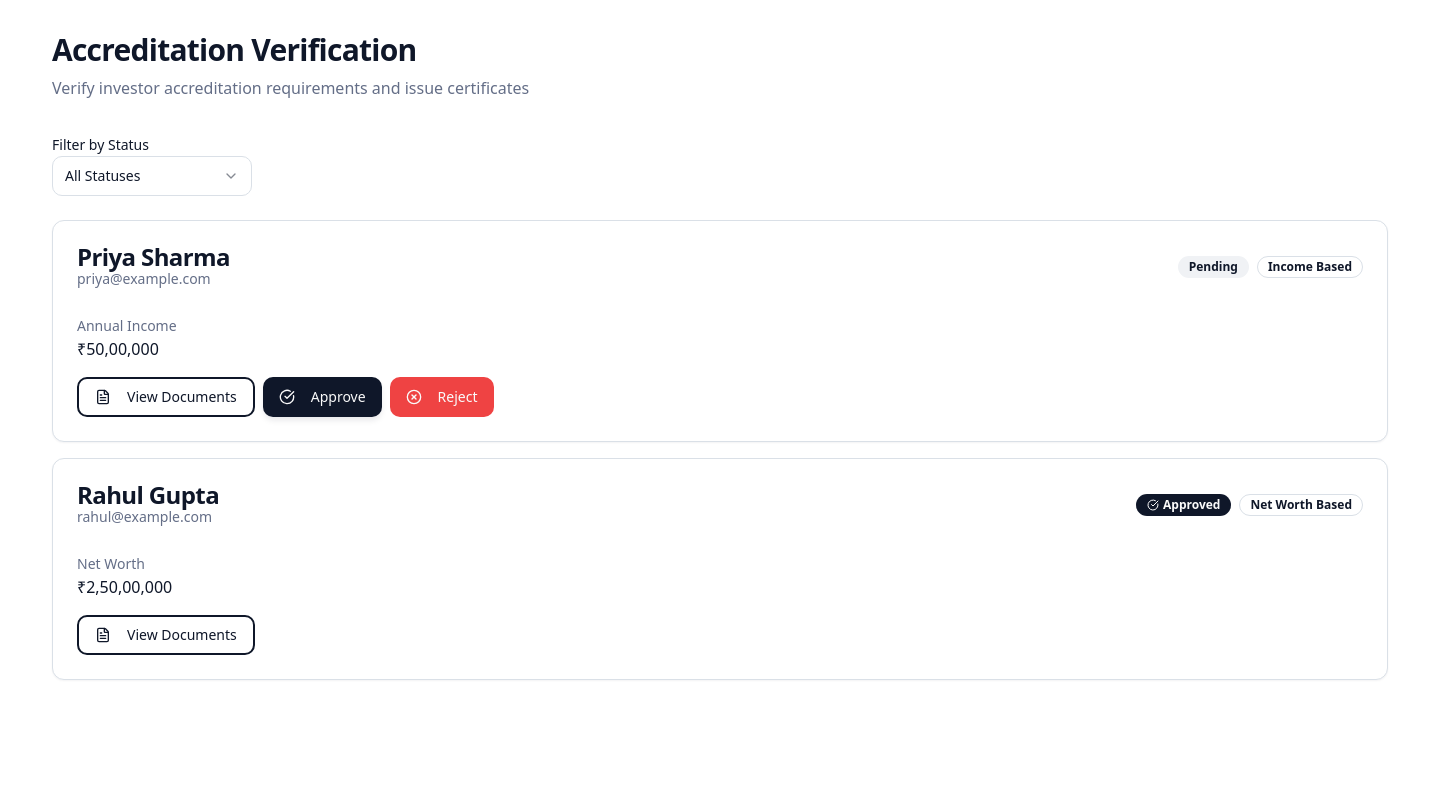
US-COMPLIANCE-003: Verify Accredited Investor Status › Filter & Search › should filter by verification status
Expected: the text "Priya Sharma" is shown, [77,245,230,269]
Expected: the text "Rahul Gupta" is shown, [77,483,219,507]
// Click the status filter dropdown
Click the dropdown at (152,176), box [52,156,252,196]
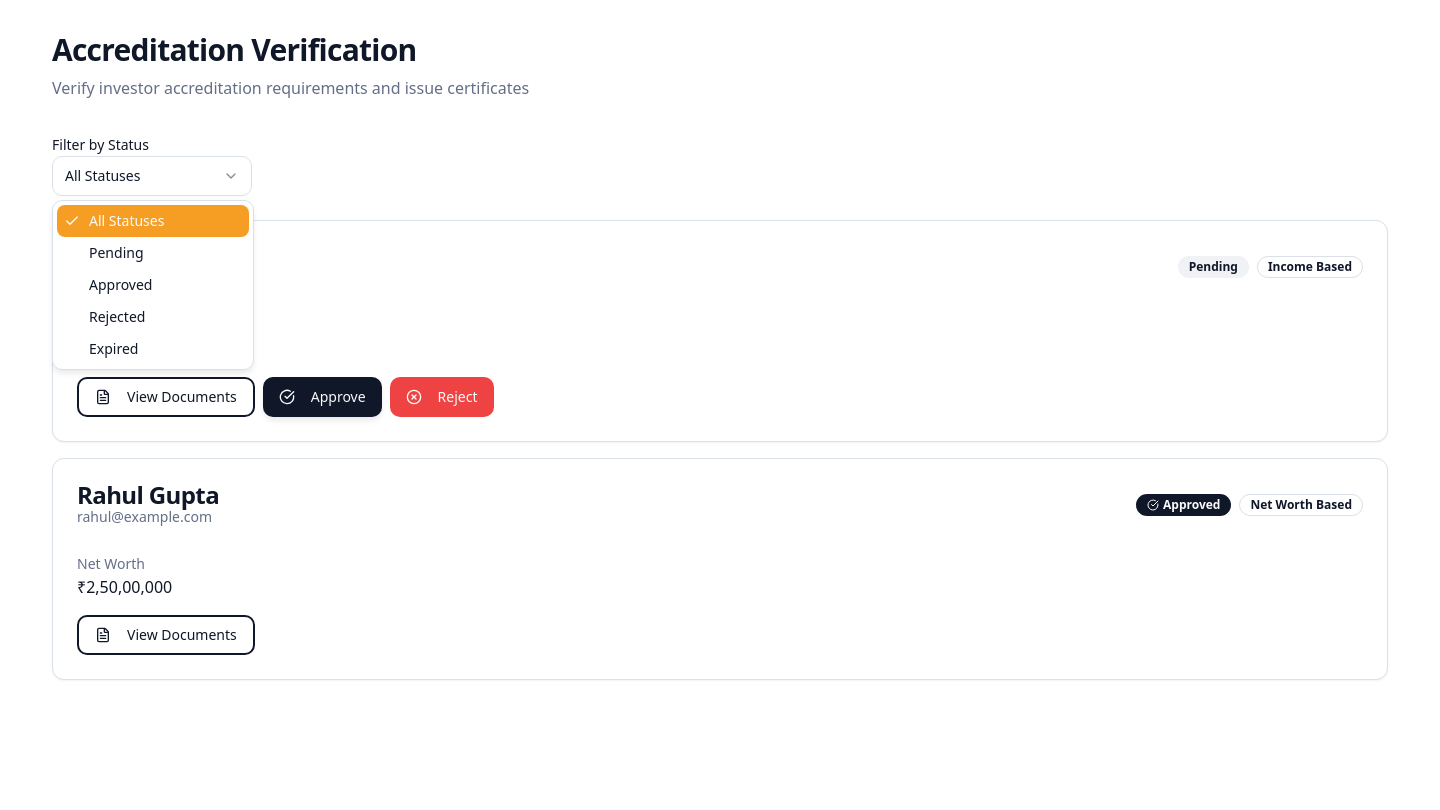
// Select pending option
Click the option "Pending" at (116,252), box [89,243,144,262]
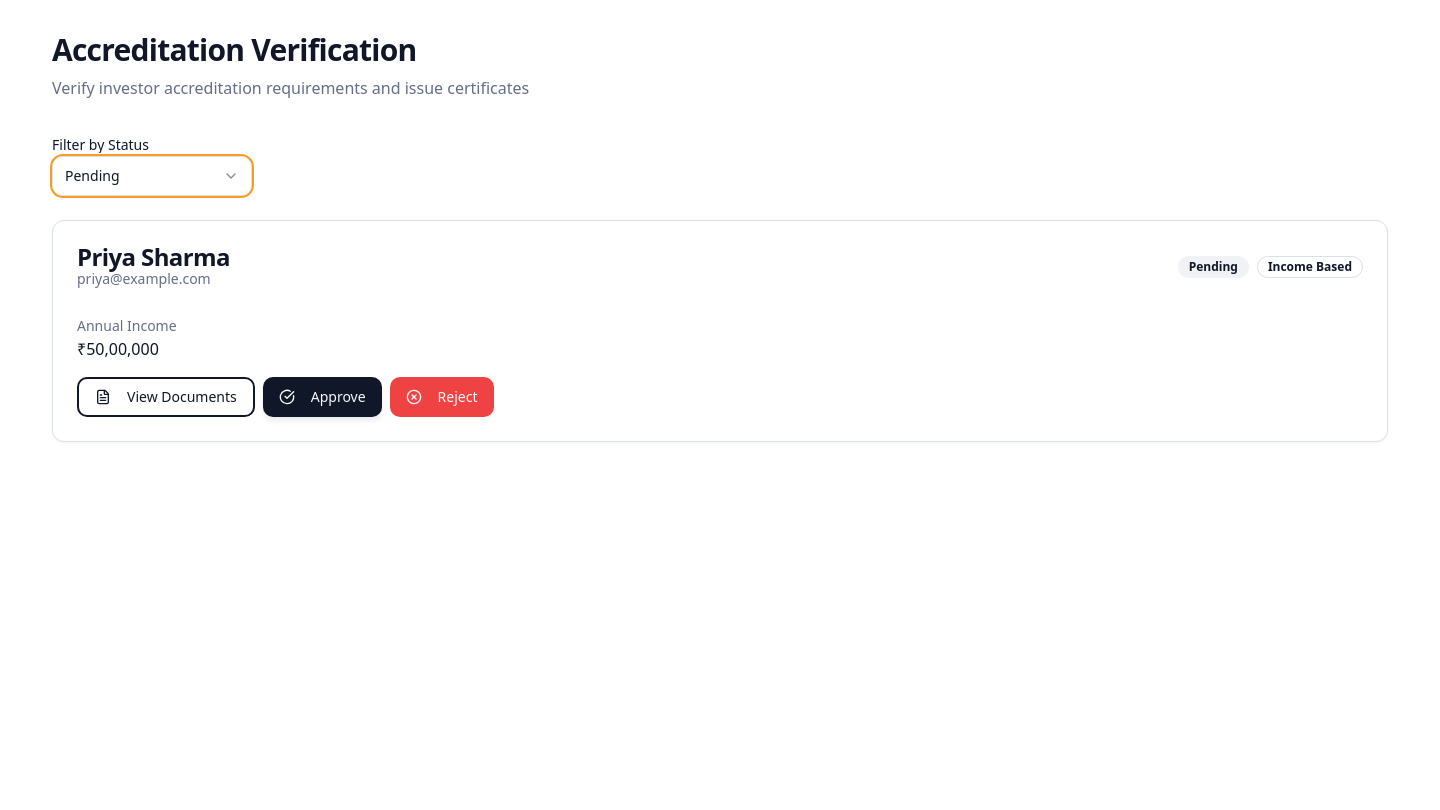
Expected: the text "Priya Sharma" is shown, [77,245,230,269]
Now the text "Rahul Gupta" is gone
